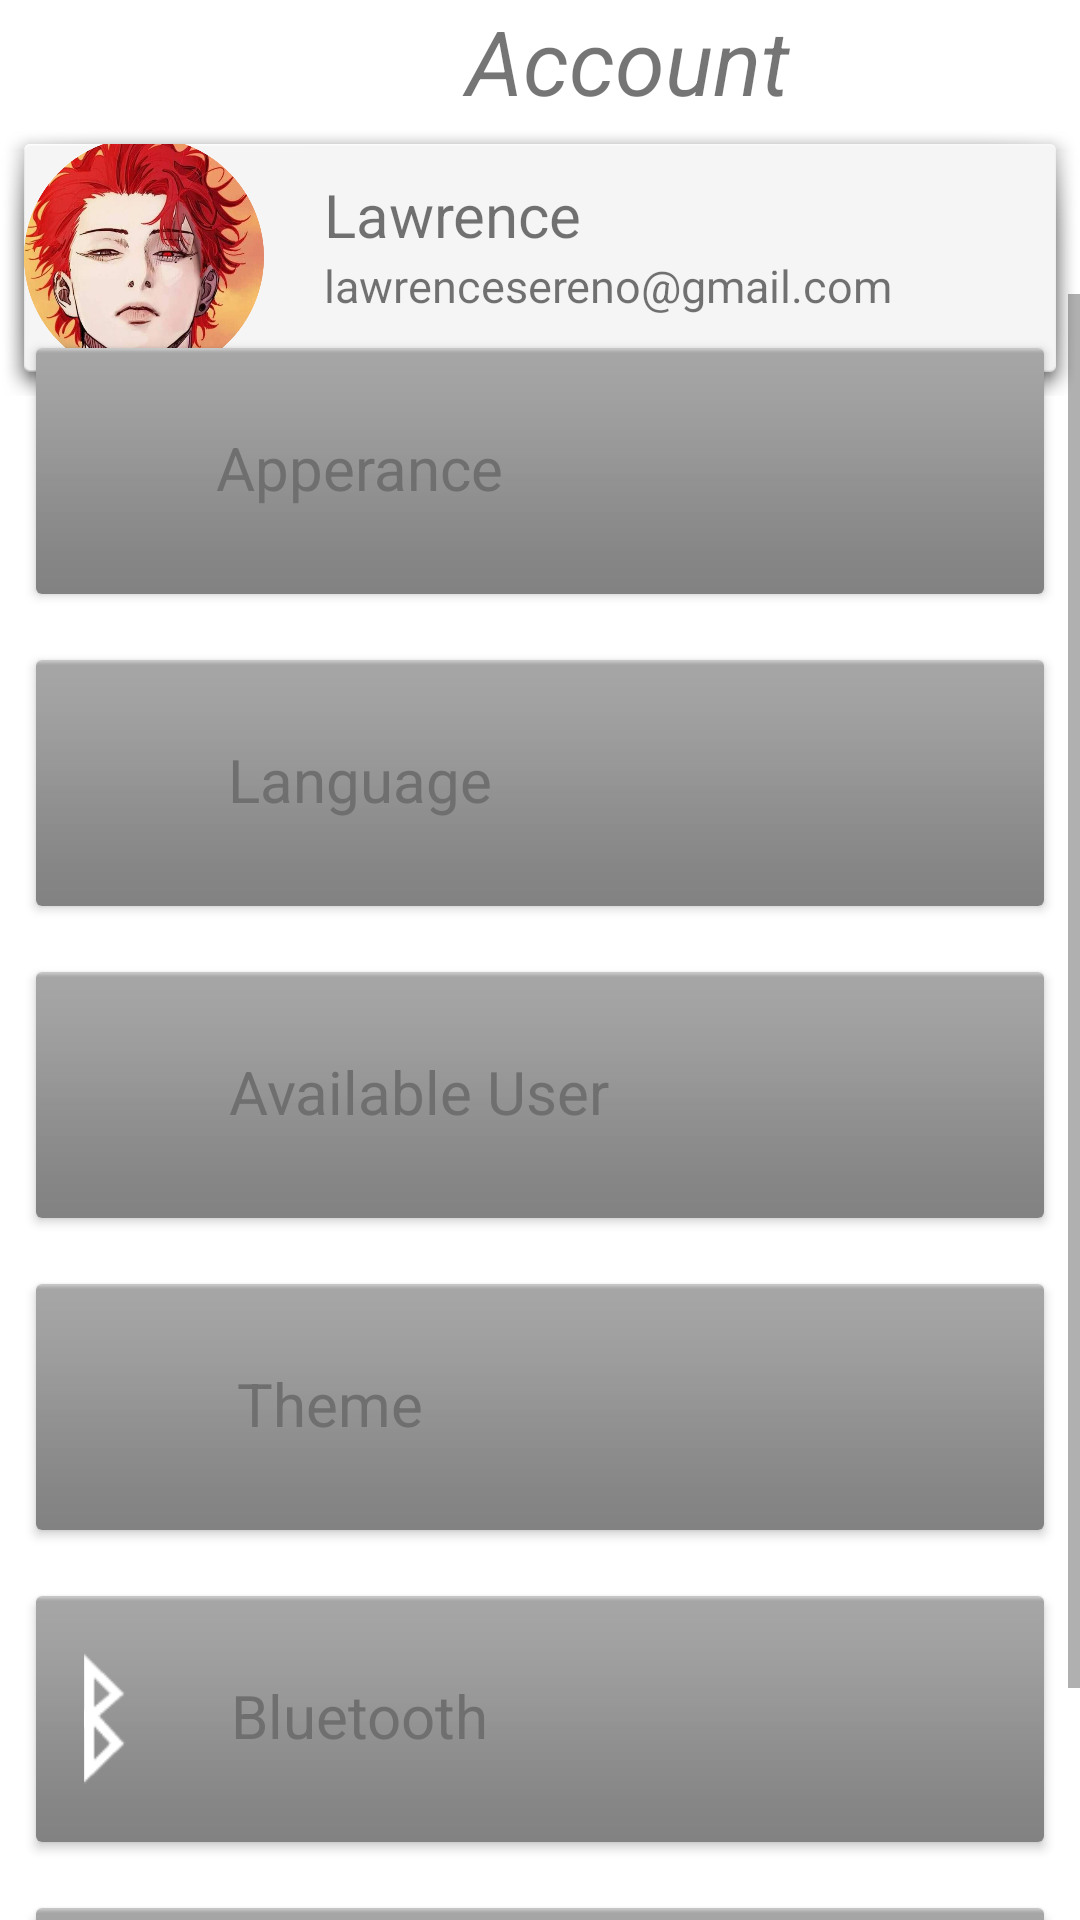

Point at icon controls on the screen. Image size 1080 × 1920, points as (x=x, y=y).
profile: (x=144, y=257)
